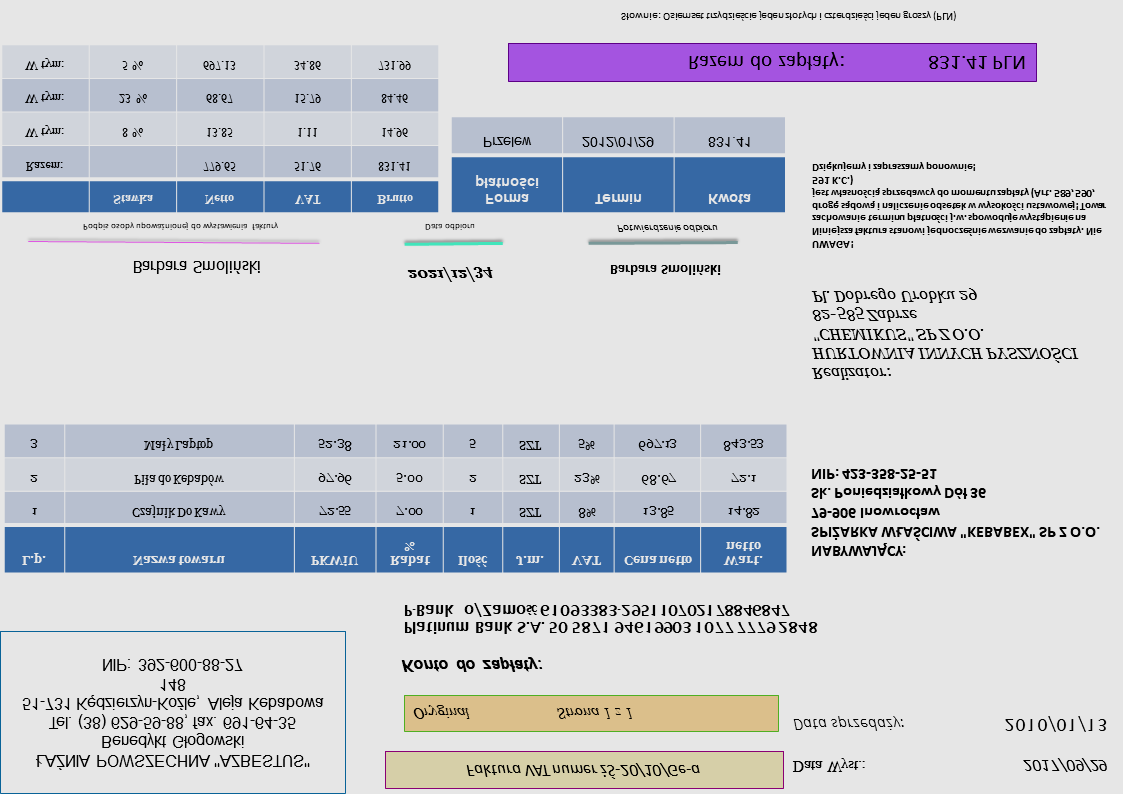Table: (3, 423, 788, 574), (1, 45, 440, 214), (450, 115, 787, 215)
TextBox: (19, 655, 326, 774), (809, 465, 1102, 559), (810, 159, 1108, 251), (809, 287, 1081, 384), (401, 601, 821, 638), (685, 50, 1028, 74), (617, 7, 960, 24), (410, 702, 636, 723), (463, 762, 703, 780), (399, 654, 546, 677), (80, 220, 281, 234), (131, 258, 263, 278), (790, 714, 906, 734), (1003, 713, 1107, 735), (406, 262, 495, 285), (607, 262, 723, 278), (1020, 756, 1108, 776), (790, 755, 866, 776), (614, 222, 718, 235), (423, 222, 476, 233)
